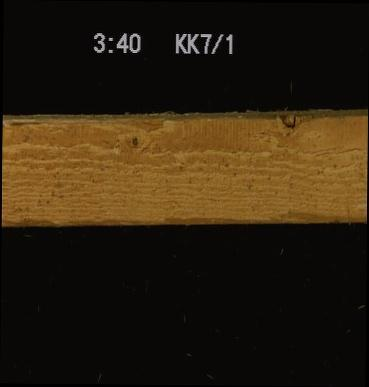dry_knot: (124, 131, 142, 153)
edge_knot: (270, 108, 308, 129)
wave: (165, 213, 366, 224)
